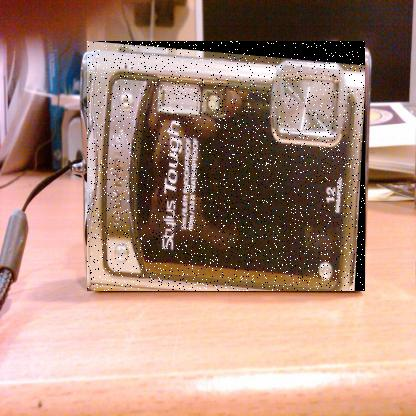Camera: (88, 42, 367, 293)
